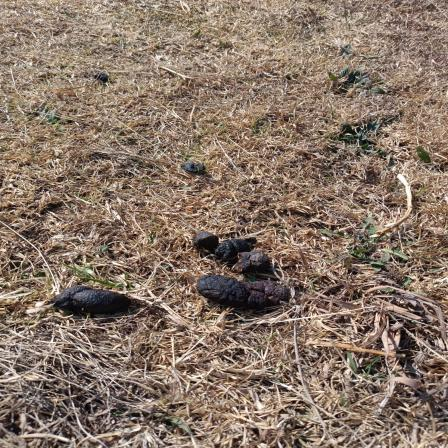dog-poop: (177, 225, 314, 318), (50, 278, 138, 320)
